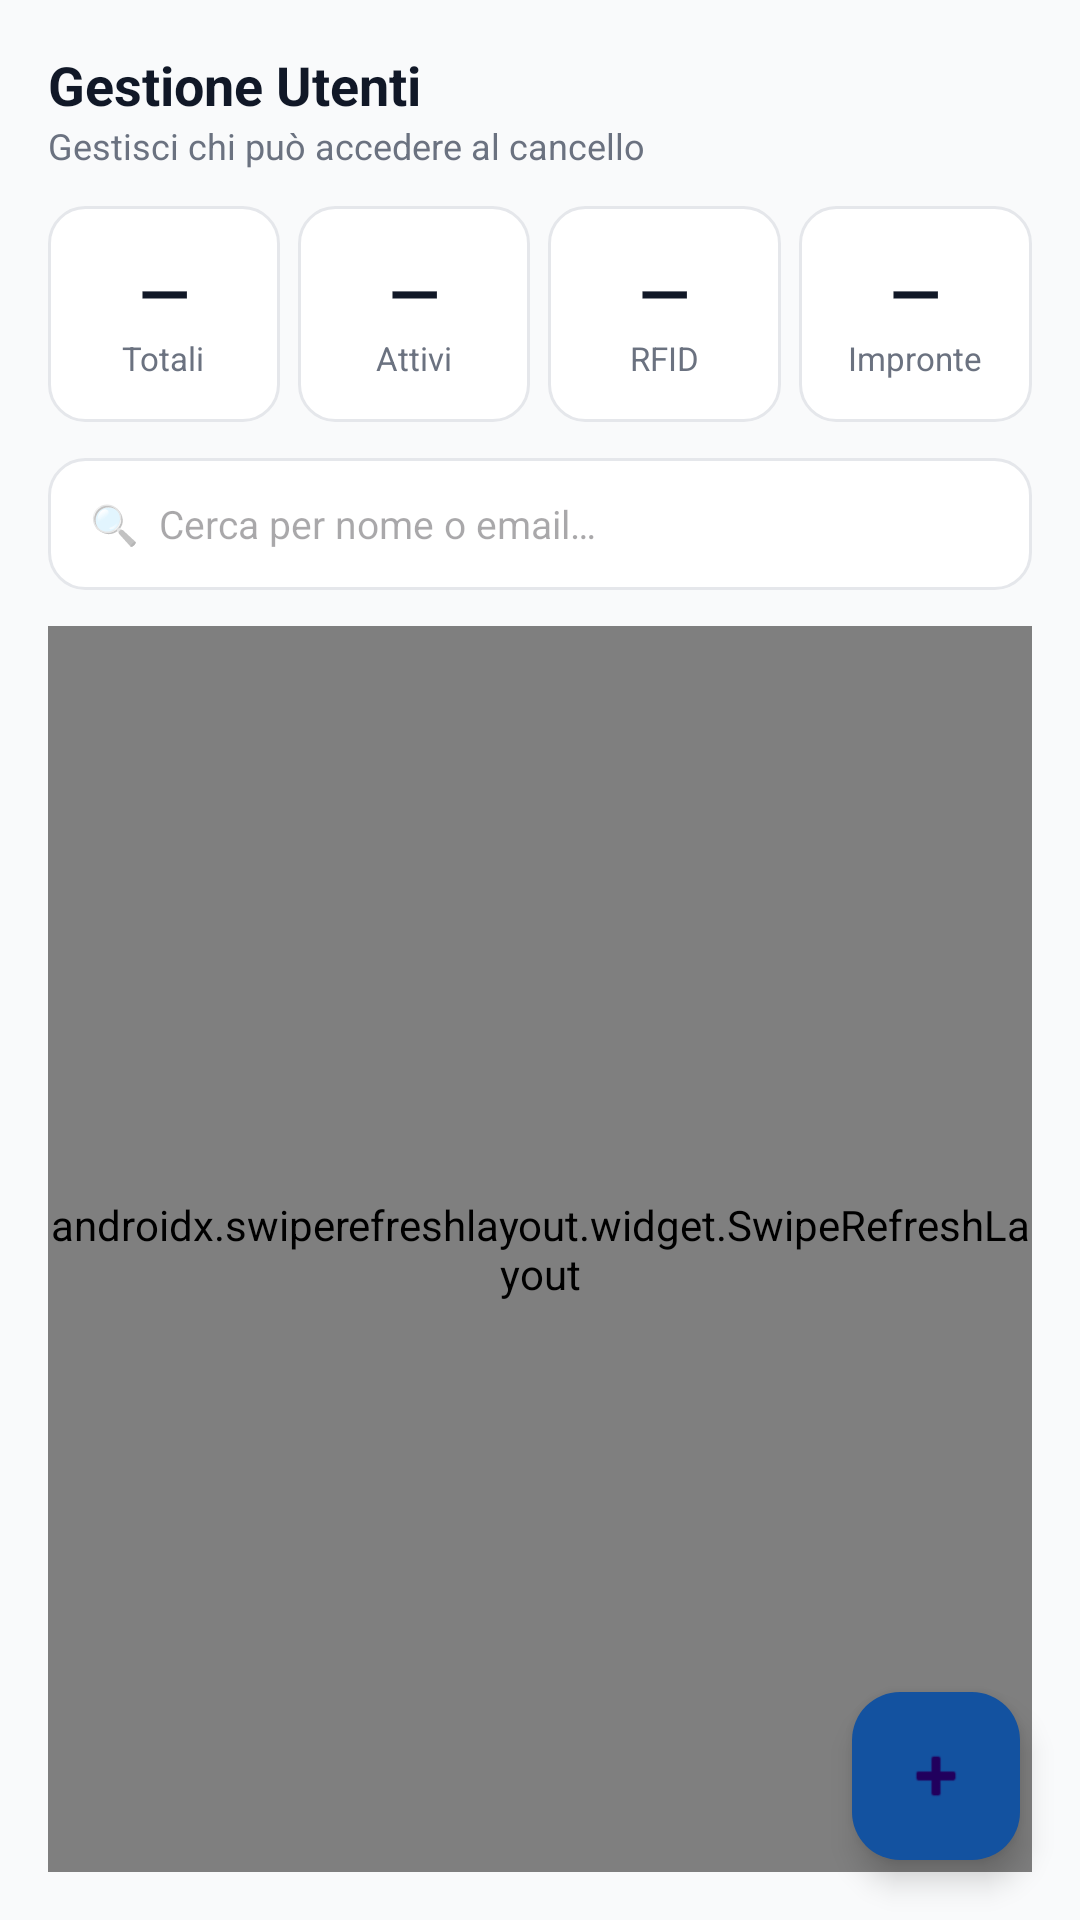

Screen size 1080 × 1920. Icon name, then its center in pixels as [x,y]:
Nuovo utente: [936,1776]
